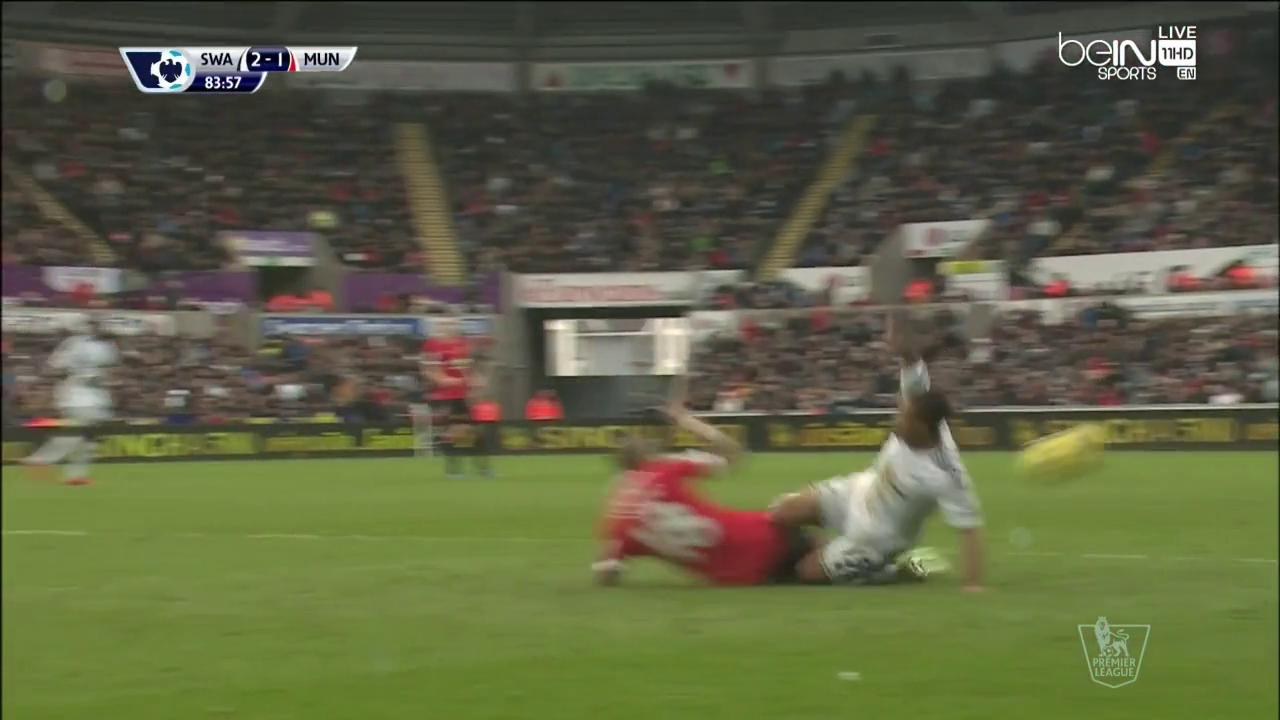football: (1019, 422, 1104, 487)
